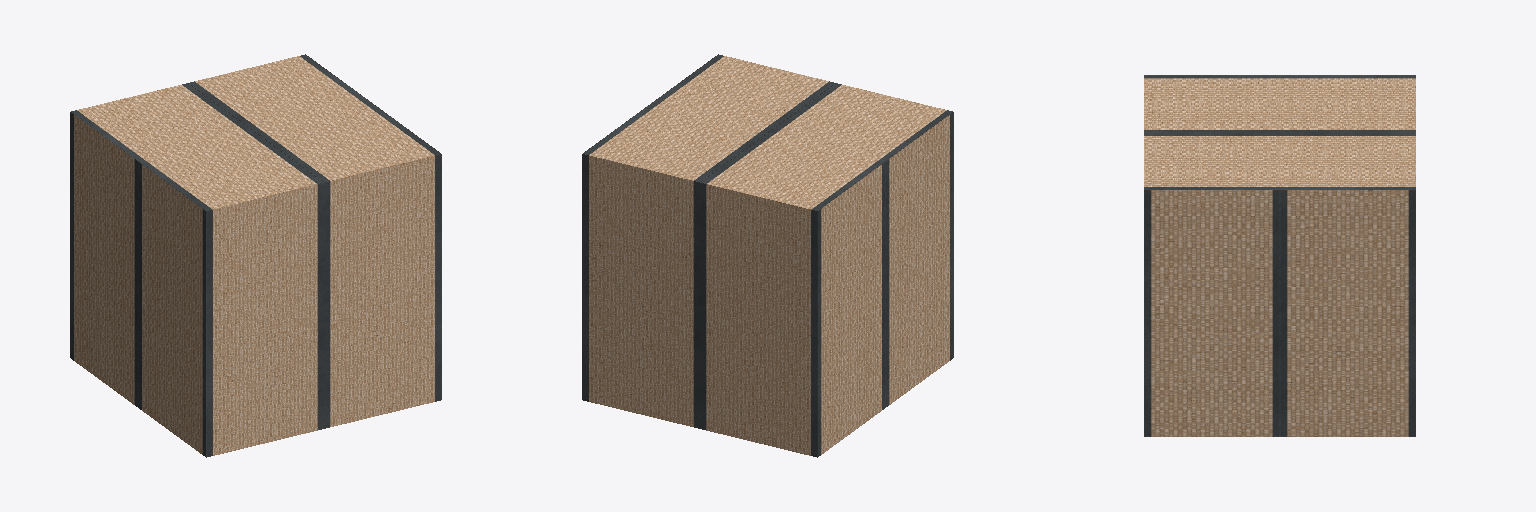
The picture shows the model from 3 angles: view 1: azimuth 30°, elevation 25°; view 2: azimuth 150°, elevation 25°; view 3: azimuth 270°, elevation 25°; orthographic projection.
Visible parts, largest first — view 1: Cube; view 2: Cube; view 3: Cube.
Part boxes in pixels (bbox=[...]): Cube: bbox=[70, 54, 441, 457]; Cube: bbox=[582, 54, 953, 457]; Cube: bbox=[1144, 75, 1415, 436].
Bounding box in the file's own units: 2 × 2 × 2.
1 materials, 1 textured.